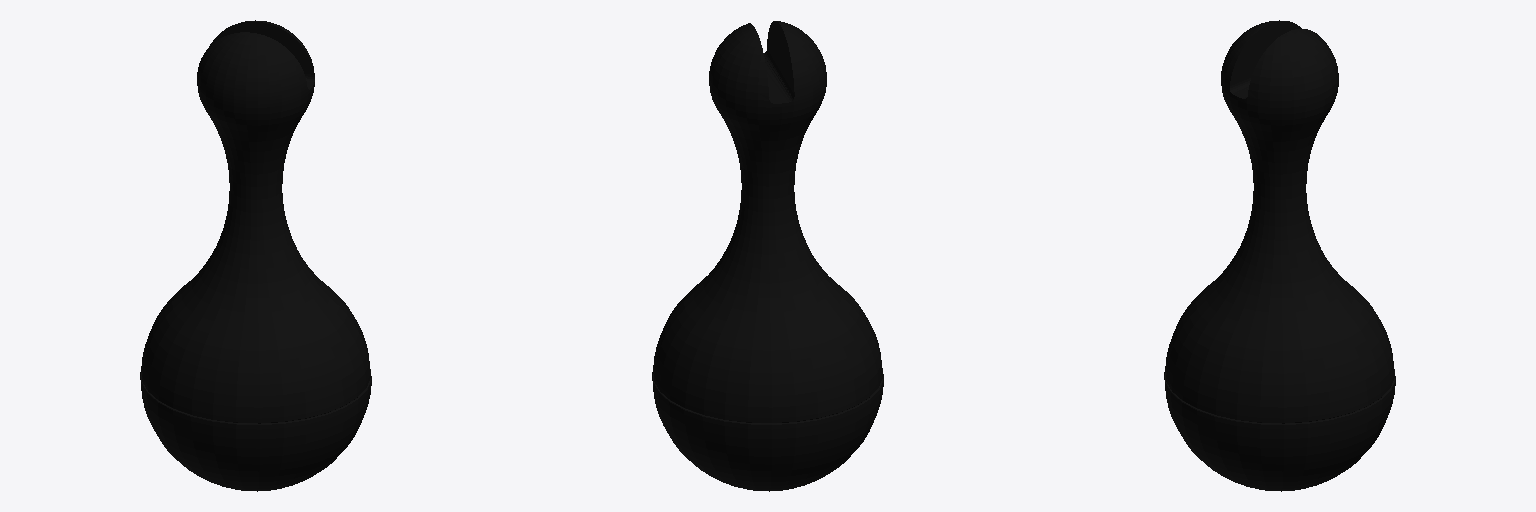
The robot description file, URDF, robot "bishop_b":
<?xml version="1.0"?>
<robot name="bishop_b">
  <link name="base_link">
    <visual>
      <origin xyz="0 0 0" rpy="0 0 0"/>
      <geometry>
        <mesh filename="./meshes/Bishops.stl" scale="0.003 0.003 0.003"/>
      </geometry>
      <material name="pawn_material">
        <color rgba="0.1 0.1 0.1 1.0"/>
      </material>
    </visual>
    <collision>
      <origin xyz="0 0 0.025" rpy="0 0 0"/>
      <geometry>
        <cylinder radius="0.012" length="0.05"/>
      </geometry>
    </collision>
    <inertial>
      <origin xyz="0 0 0.025" rpy="0 0 0"/>
      <mass value="0.04"/> <!-- 40 grams, or adjust -->
      <inertia
        ixx="0.00005" ixy="0.0" ixz="0.0"
        iyy="0.00005" iyz="0.0"
        izz="0.00001"/>
    </inertial>
  </link>
</robot>

--- What the picture shows (computed from the rendered views, not written in the file) ---
The picture shows the robot from 3 angles, left to right: view 1: azimuth 30°, elevation 25°; view 2: azimuth 150°, elevation 25°; view 3: azimuth 270°, elevation 25°; orthographic projection.
Model bishop_b with 1 links and 0 joints (none), rooted at base_link, posed all joints at 0.
Links seen in each view (by area): view 1: base_link; view 2: base_link; view 3: base_link.
Boxes of the visible links, <box> form: base_link: <box>140,20,371,491</box>; base_link: <box>652,21,883,491</box>; base_link: <box>1164,20,1395,491</box>.
Size in the robot's own frame: 0.0524 by 0.0523 by 0.113 metres.
1 mesh visuals loaded from 1 distinct referenced files (1 binary STL).
